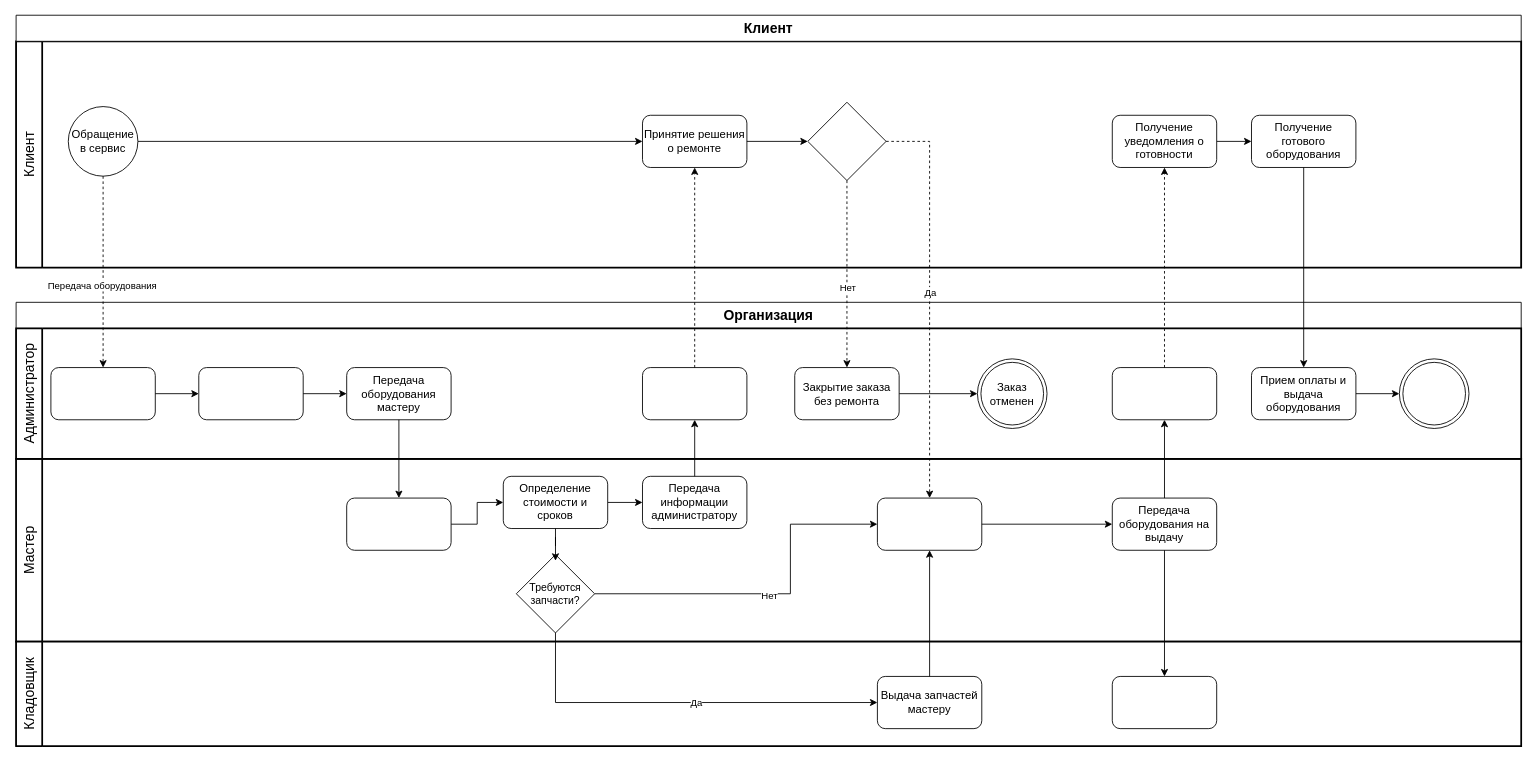
This 1536x762 diagram has some shape labels left out. The shapes that lost their labels are listed below. From the top down, each one's centre as x and y in pixels, then its label:
At [846,141]: "Согласен?".
At [102,393]: "Прием оборудования".
At [250,393]: "Регистрация обращения в журнале".
At [694,393]: "Уведомление клиента о стоимости и сроках".
At [1164,393]: "Уведомление клиента о готовности".
At [1434,393]: "Заказ завершен".
At [398,523]: "Проведение диагностики".
At [929,523]: "Выполнение ремонта".
At [1164,702]: "Списание использованных запчастей".
